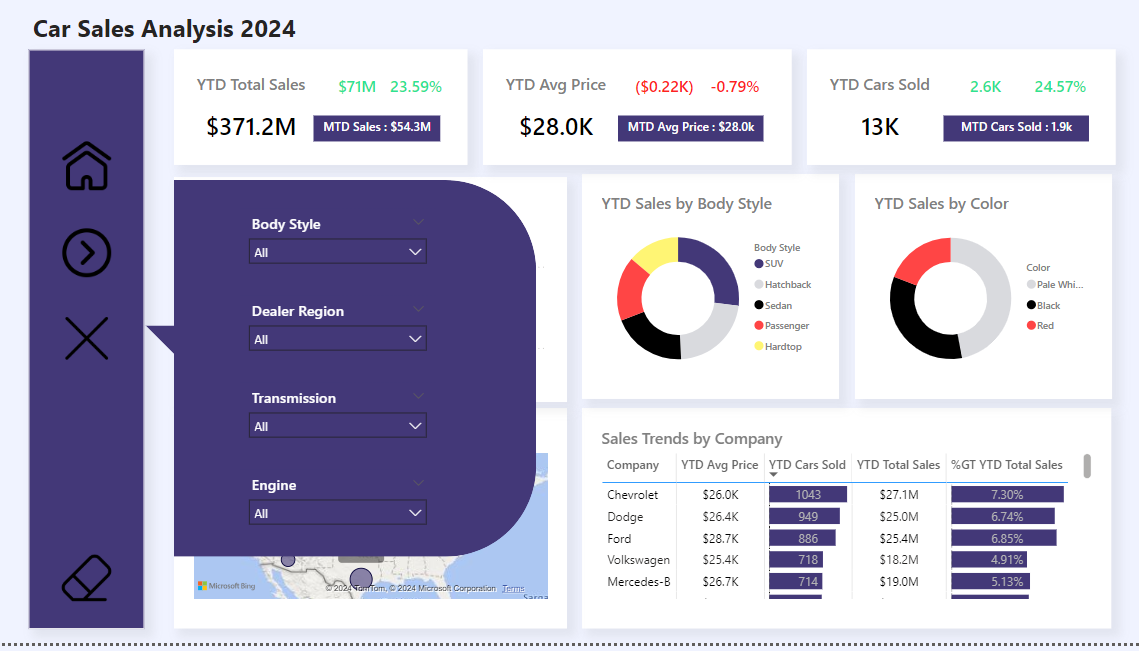

What the dashboard file says about the page in this screenshot:
{"tool":"powerbi","page":{"name":"Overview","canvas":[1280,720],"ordinal":0},"visuals":[{"type":"shape","box":[32,64,128,640],"z":0},{"type":"shape","box":[192,64,323.9,127.2],"z":0,"group":"g4"},{"type":"shape","box":[532.9,64,340.9,127.2],"z":0,"group":"g5"},{"type":"shape","box":[891,64,340.9,127.2],"z":0,"group":"g6"},{"type":"group","id":"g1","title":"Slicer Panel","box":[160,208,432,416],"z":0,"group":"g3"},{"type":"shape","box":[192,208,400,416],"z":0,"group":"g1"},{"type":"shape","box":[642.8,460.7,584.4,243.3],"z":0,"group":"g2"},{"type":"textbox","box":[32,16,448,64],"z":1000},{"type":"card","title":"YTD Total Sales","fields":{"Values":["key metrics.YTD Total Sales"]},"box":[209.4,90.5,136.6,94],"z":1000,"group":"g4"},{"type":"card","title":"YTD Avg Price","fields":{"Values":["key metrics.YTD Avg Price"]},"box":[532.6,90.5,160.8,94],"z":1000,"group":"g5"},{"type":"card","title":"YTD Cars Sold","fields":{"Values":["key metrics.YTD Cars Sold"]},"box":[890.5,90.5,160.8,94],"z":1000,"group":"g6"},{"type":"slicer","fields":{"Values":["car_data.Body Style"]},"box":[264,240,216,72],"z":1000,"group":"g3"},{"type":"shape","box":[160,368,32,32],"z":1000,"group":"g1"},{"type":"shape","box":[192,460.7,434.1,243.3],"z":1000,"group":"g2"},{"type":"card","title":"YTD Total Sales","fields":{"Values":["key metrics.Sales diff"]},"box":[345.9,73.7,95.1,63.8],"z":2000,"group":"g4"},{"type":"card","title":"YTD Total Sales","fields":{"Values":["key metrics.Avg Price Diff"]},"box":[684.7,73.7,95.1,63.8],"z":2000,"group":"g5"},{"type":"card","title":"YTD Total Sales","fields":{"Values":["key metrics.Cars Sold diff"]},"box":[1039.2,73.7,95.1,63.8],"z":2000,"group":"g6"},{"type":"image","box":[32,160,128,64],"z":2000},{"type":"shape","box":[192,204.3,434.1,248.4],"z":2000,"group":"g2"},{"type":"slicer","fields":{"Values":["car_data.Dealer_Region"]},"box":[264,336,216,72],"z":2000,"group":"g3"},{"type":"card","title":"YTD Total Sales","fields":{"Values":["key metrics.yoy growth%"]},"box":[413.4,73.7,89.9,63.8],"z":3000,"group":"g4"},{"type":"card","title":"YTD Total Sales","fields":{"Values":["key metrics.avg price diff%"]},"box":[762.5,73.7,95.1,63.8],"z":3000,"group":"g5"},{"type":"card","title":"YTD Total Sales","fields":{"Values":["key metrics.Car Sold diff%"]},"box":[1122.1,73.7,95.1,63.8],"z":3000,"group":"g6"},{"type":"image","box":[32,256,128,64],"z":3000},{"type":"slicer","fields":{"Values":["car_data.Transmission"]},"box":[264,432,216,72],"z":3000,"group":"g3"},{"type":"map","title":"YTD Cars Sold by Region","fields":{"Category":["car_data.Dealer_Region"],"Size":["key metrics.YTD Cars Sold"]},"box":[208.7,481.3,400.7,194.6],"z":3000,"group":"g2"},{"type":"card","fields":{"Values":["key metrics.MTD KPI"]},"box":[345.9,137.5,140,28.5],"z":4000,"group":"g4"},{"type":"card","fields":{"Values":["key metrics.MTD Avg Price KPI"]},"box":[681.3,137.5,160.8,28.5],"z":4000,"group":"g5"},{"type":"card","fields":{"Values":["key metrics.MTD Cars sold KPI"]},"box":[1040.9,137.5,160.8,28.5],"z":4000,"group":"g6"},{"type":"tableEx","title":"Sales Trends by Company","fields":{"Values":["car_data.Company","key metrics.YTD Avg Price","key metrics.YTD Cars Sold","key metrics.YTD Total Sales1","key metrics.YTD Total Sales"]},"box":[659.5,481.3,551,194.6],"z":4000,"group":"g2"},{"type":"slicer","fields":{"Values":["car_data.Engine"]},"box":[264,528,216,72],"z":4000,"group":"g3"},{"type":"group","id":"g2","title":"Group 4","box":[192,64,1040,640],"z":5000},{"type":"areaChart","title":"YTD Sales Weekly Trend","fields":{"Category":["Date_Table.week"],"Y":["key metrics.Total Sales"]},"box":[208.7,220.5,400.7,210.9],"z":5000,"group":"g2"},{"type":"shape","box":[642.8,201.8,283.8,248.4],"z":6000,"group":"g2"},{"type":"group","id":"g3","title":"Slicer Panel","box":[160,208,432,416],"z":6000},{"type":"shape","box":[943.3,201.8,283.8,248.4],"z":7000,"group":"g2"},{"type":"image","box":[32,352,128,64],"z":7000},{"type":"group","id":"g4","title":"Group 1","box":[192,64,323.9,127.2],"z":8000,"group":"g2"},{"type":"image","box":[24,600,144,96],"z":8000},{"type":"group","id":"g5","title":"Group 2","box":[532.6,64,341.3,127.2],"z":9000,"group":"g2"},{"type":"group","id":"g6","title":"Group 3","box":[890.5,64,341.5,127.2],"z":10000,"group":"g2"},{"type":"donutChart","title":"YTD Sales by Body Style","fields":{"Y":["key metrics.YTD Total Sales"],"Category":["car_data.Body Style"]},"box":[658.9,222,250.4,210.9],"z":11000,"group":"g2"},{"type":"donutChart","title":"YTD Sales by Color","fields":{"Y":["key metrics.YTD Total Sales"],"Category":["car_data.Color"]},"box":[960,221.8,250.4,210.9],"z":12000,"group":"g2"}]}

Visuals, with their boxes on the page's 1280x720 design canvas (x1, y1, x2, y2). These are canvas units, not pixel positions in the 1139x651 screenshot, which may show the page scaled, cropped or inside an application window:
shape: <region>32, 64, 160, 704</region>
shape: <region>192, 64, 516, 191</region>
shape: <region>533, 64, 874, 191</region>
shape: <region>891, 64, 1232, 191</region>
"Slicer Panel" group: <region>160, 208, 592, 624</region>
shape: <region>192, 208, 592, 624</region>
shape: <region>643, 461, 1227, 704</region>
textbox: <region>32, 16, 480, 80</region>
"YTD Total Sales" card: <region>209, 90, 346, 184</region>
"YTD Avg Price" card: <region>533, 90, 693, 184</region>
"YTD Cars Sold" card: <region>890, 90, 1051, 184</region>
slicer - car_data.Body Style: <region>264, 240, 480, 312</region>
shape: <region>160, 368, 192, 400</region>
shape: <region>192, 461, 626, 704</region>
"YTD Total Sales" card: <region>346, 74, 441, 138</region>
"YTD Total Sales" card: <region>685, 74, 780, 138</region>
"YTD Total Sales" card: <region>1039, 74, 1134, 138</region>
image: <region>32, 160, 160, 224</region>
shape: <region>192, 204, 626, 453</region>
slicer - car_data.Dealer_Region: <region>264, 336, 480, 408</region>
"YTD Total Sales" card: <region>413, 74, 503, 138</region>
"YTD Total Sales" card: <region>762, 74, 858, 138</region>
"YTD Total Sales" card: <region>1122, 74, 1217, 138</region>
image: <region>32, 256, 160, 320</region>
slicer - car_data.Transmission: <region>264, 432, 480, 504</region>
"YTD Cars Sold by Region" map: <region>209, 481, 609, 676</region>
card - key metrics.MTD KPI: <region>346, 138, 486, 166</region>
card - key metrics.MTD Avg Price KPI: <region>681, 138, 842, 166</region>
card - key metrics.MTD Cars sold KPI: <region>1041, 138, 1202, 166</region>
"Sales Trends by Company" tableEx: <region>660, 481, 1210, 676</region>
slicer - car_data.Engine: <region>264, 528, 480, 600</region>
"Group 4" group: <region>192, 64, 1232, 704</region>
"YTD Sales Weekly Trend" areaChart: <region>209, 220, 609, 431</region>
shape: <region>643, 202, 927, 450</region>
"Slicer Panel" group: <region>160, 208, 592, 624</region>
shape: <region>943, 202, 1227, 450</region>
image: <region>32, 352, 160, 416</region>
"Group 1" group: <region>192, 64, 516, 191</region>
image: <region>24, 600, 168, 696</region>
"Group 2" group: <region>533, 64, 874, 191</region>
"Group 3" group: <region>890, 64, 1232, 191</region>
"YTD Sales by Body Style" donutChart: <region>659, 222, 909, 433</region>
"YTD Sales by Color" donutChart: <region>960, 222, 1210, 433</region>
